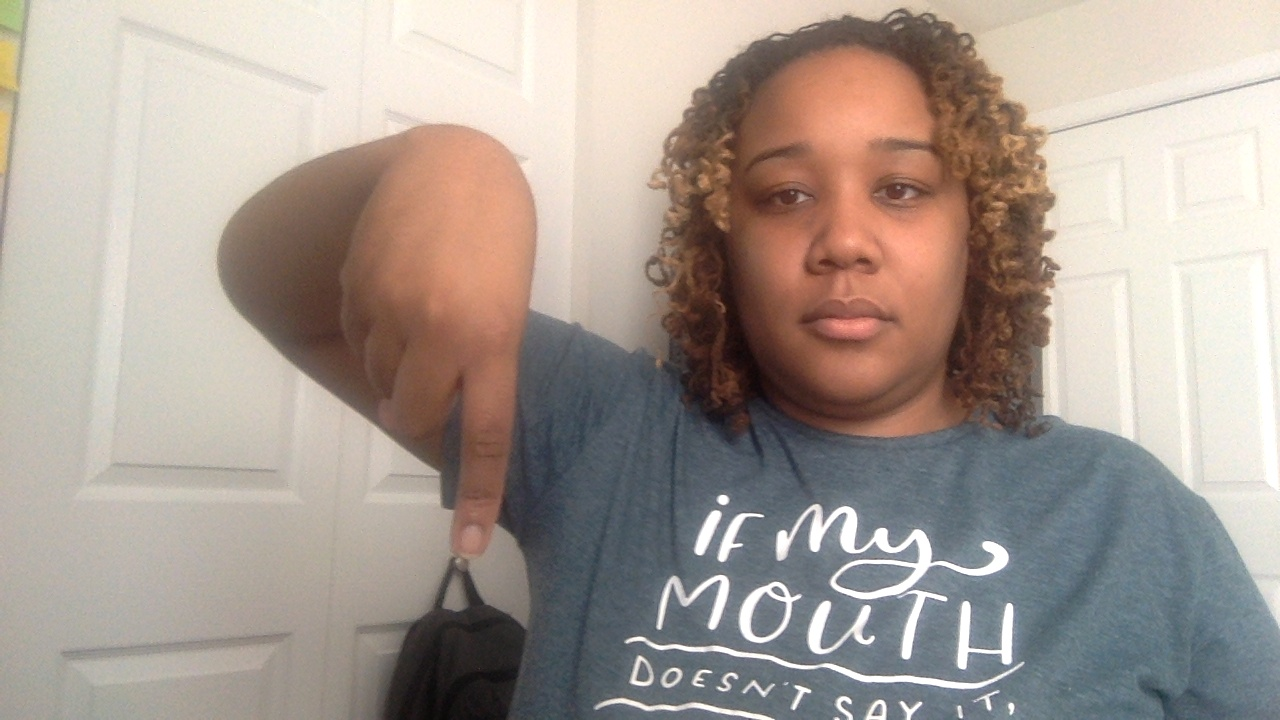down: (330, 114, 546, 563)
